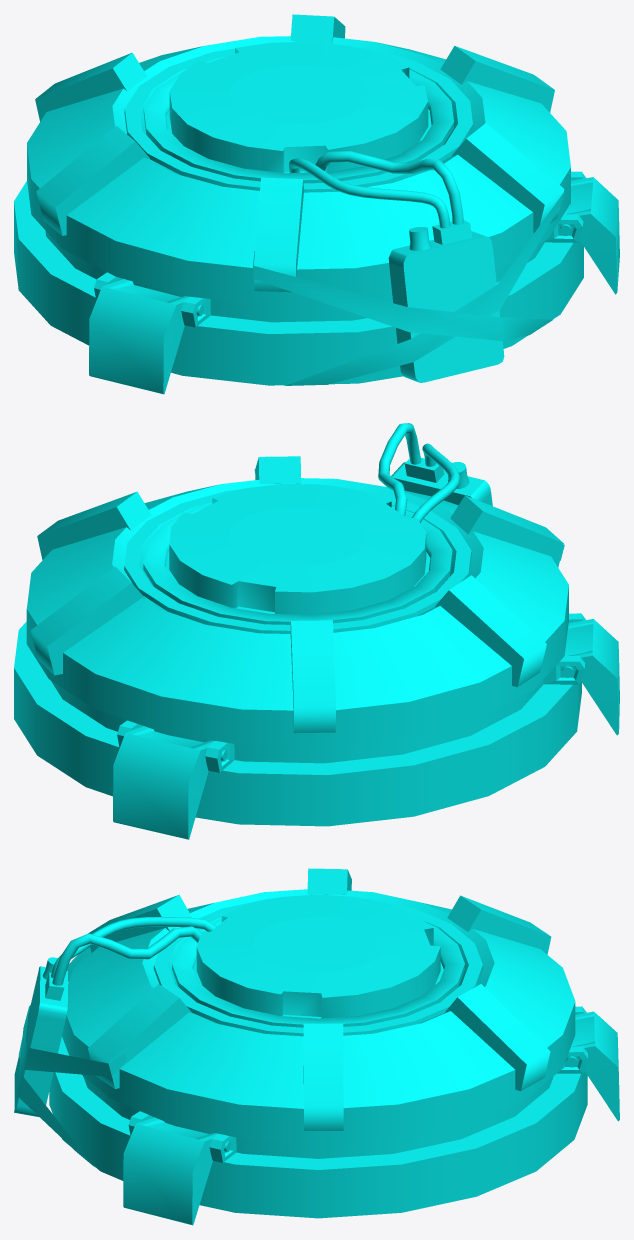
File: Mine.fbx
3 renders of one model, top to bottom at view 1: azimuth 30°, elevation 25°; view 2: azimuth 150°, elevation 25°; view 3: azimuth 270°, elevation 25°, orthographic. The views are drawn at different scales.
Visible parts, largest first — view 1: bottom_low; view 2: bottom_low; view 3: bottom_low.
Part boxes in pixels (x1,y1,x2,y2): bottom_low: (14,14,619,394); bottom_low: (14,423,619,839); bottom_low: (14,868,619,1225).
Size of the model in its own units: 3.13 by 1.13 by 3.36.
